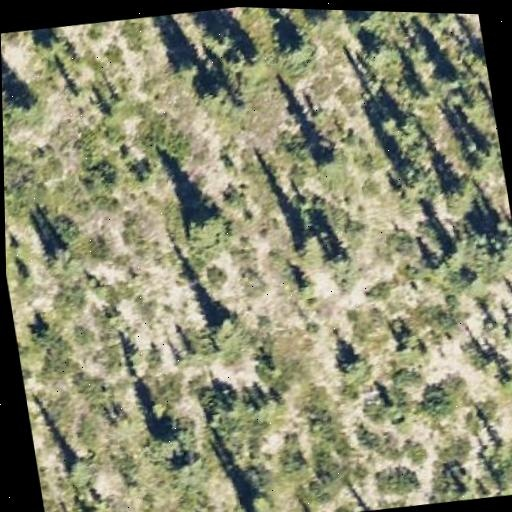tree-top: (144, 414, 197, 464), (221, 35, 277, 81), (174, 200, 226, 247), (374, 98, 422, 147), (438, 166, 481, 215), (193, 18, 240, 59), (274, 26, 319, 66), (4, 84, 47, 123), (349, 10, 396, 41), (331, 340, 367, 379), (469, 134, 504, 173), (38, 237, 74, 274), (207, 309, 243, 346), (318, 241, 355, 277), (60, 449, 95, 487), (309, 139, 342, 176), (33, 25, 68, 59), (242, 490, 276, 512), (438, 65, 460, 96)
